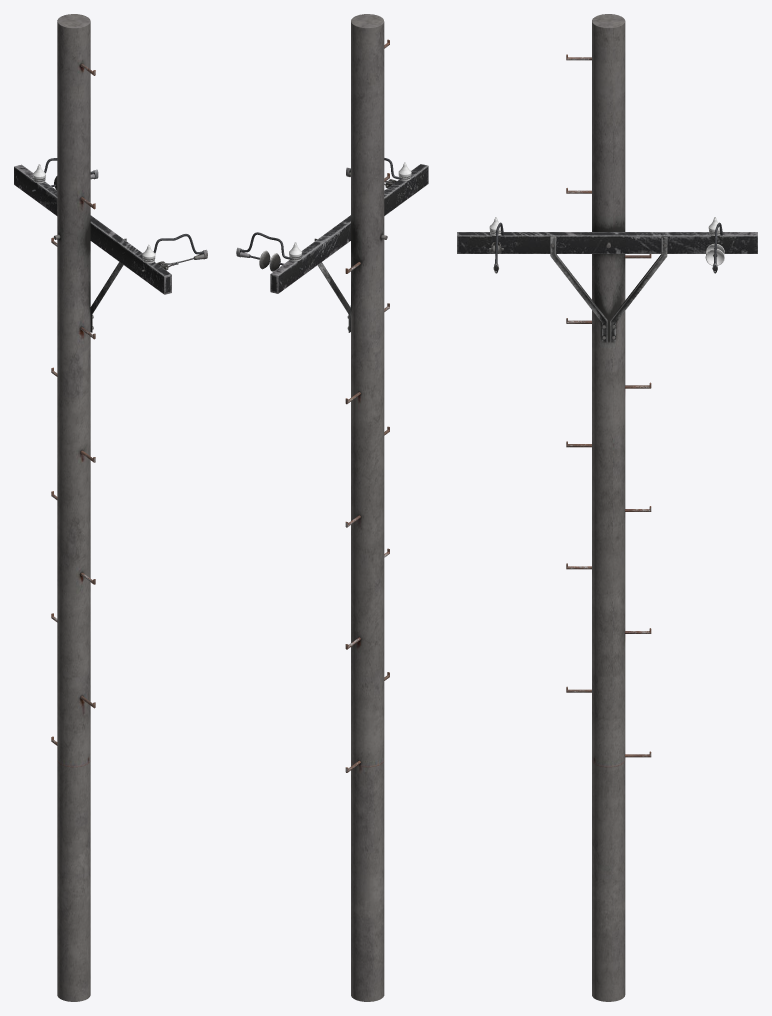
File: pole.glb
3 renders of one model, left to right at view 1: azimuth 30°, elevation 25°; view 2: azimuth 150°, elevation 25°; view 3: azimuth 270°, elevation 25°, orthographic.
Visible parts, largest first — view 1: pole; view 2: pole; view 3: pole.
Part boxes in pixels (x1,y1,x2,y2): pole: [14, 14, 207, 1001]; pole: [236, 14, 428, 1001]; pole: [457, 14, 757, 1001].
Bounding box in the file's own units: 0.8228 × 7.99 × 2.24.
4 materials, 4 textured.
